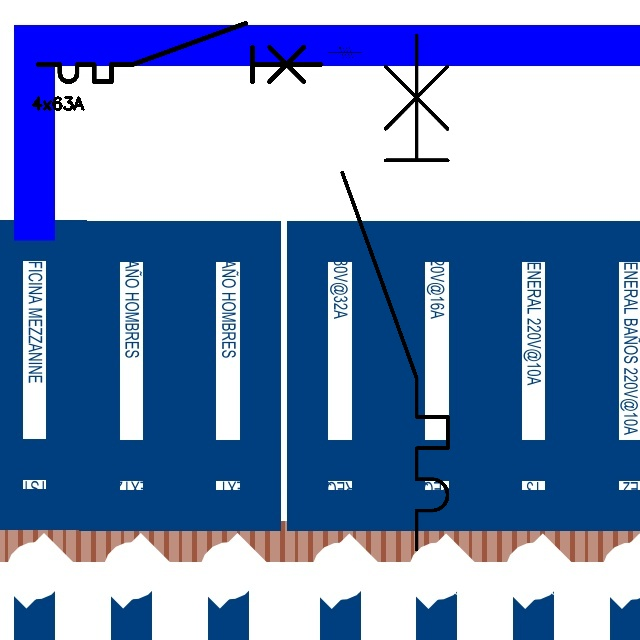interruptor_termomagnetico: (329, 22, 461, 563), (31, 16, 329, 89)
